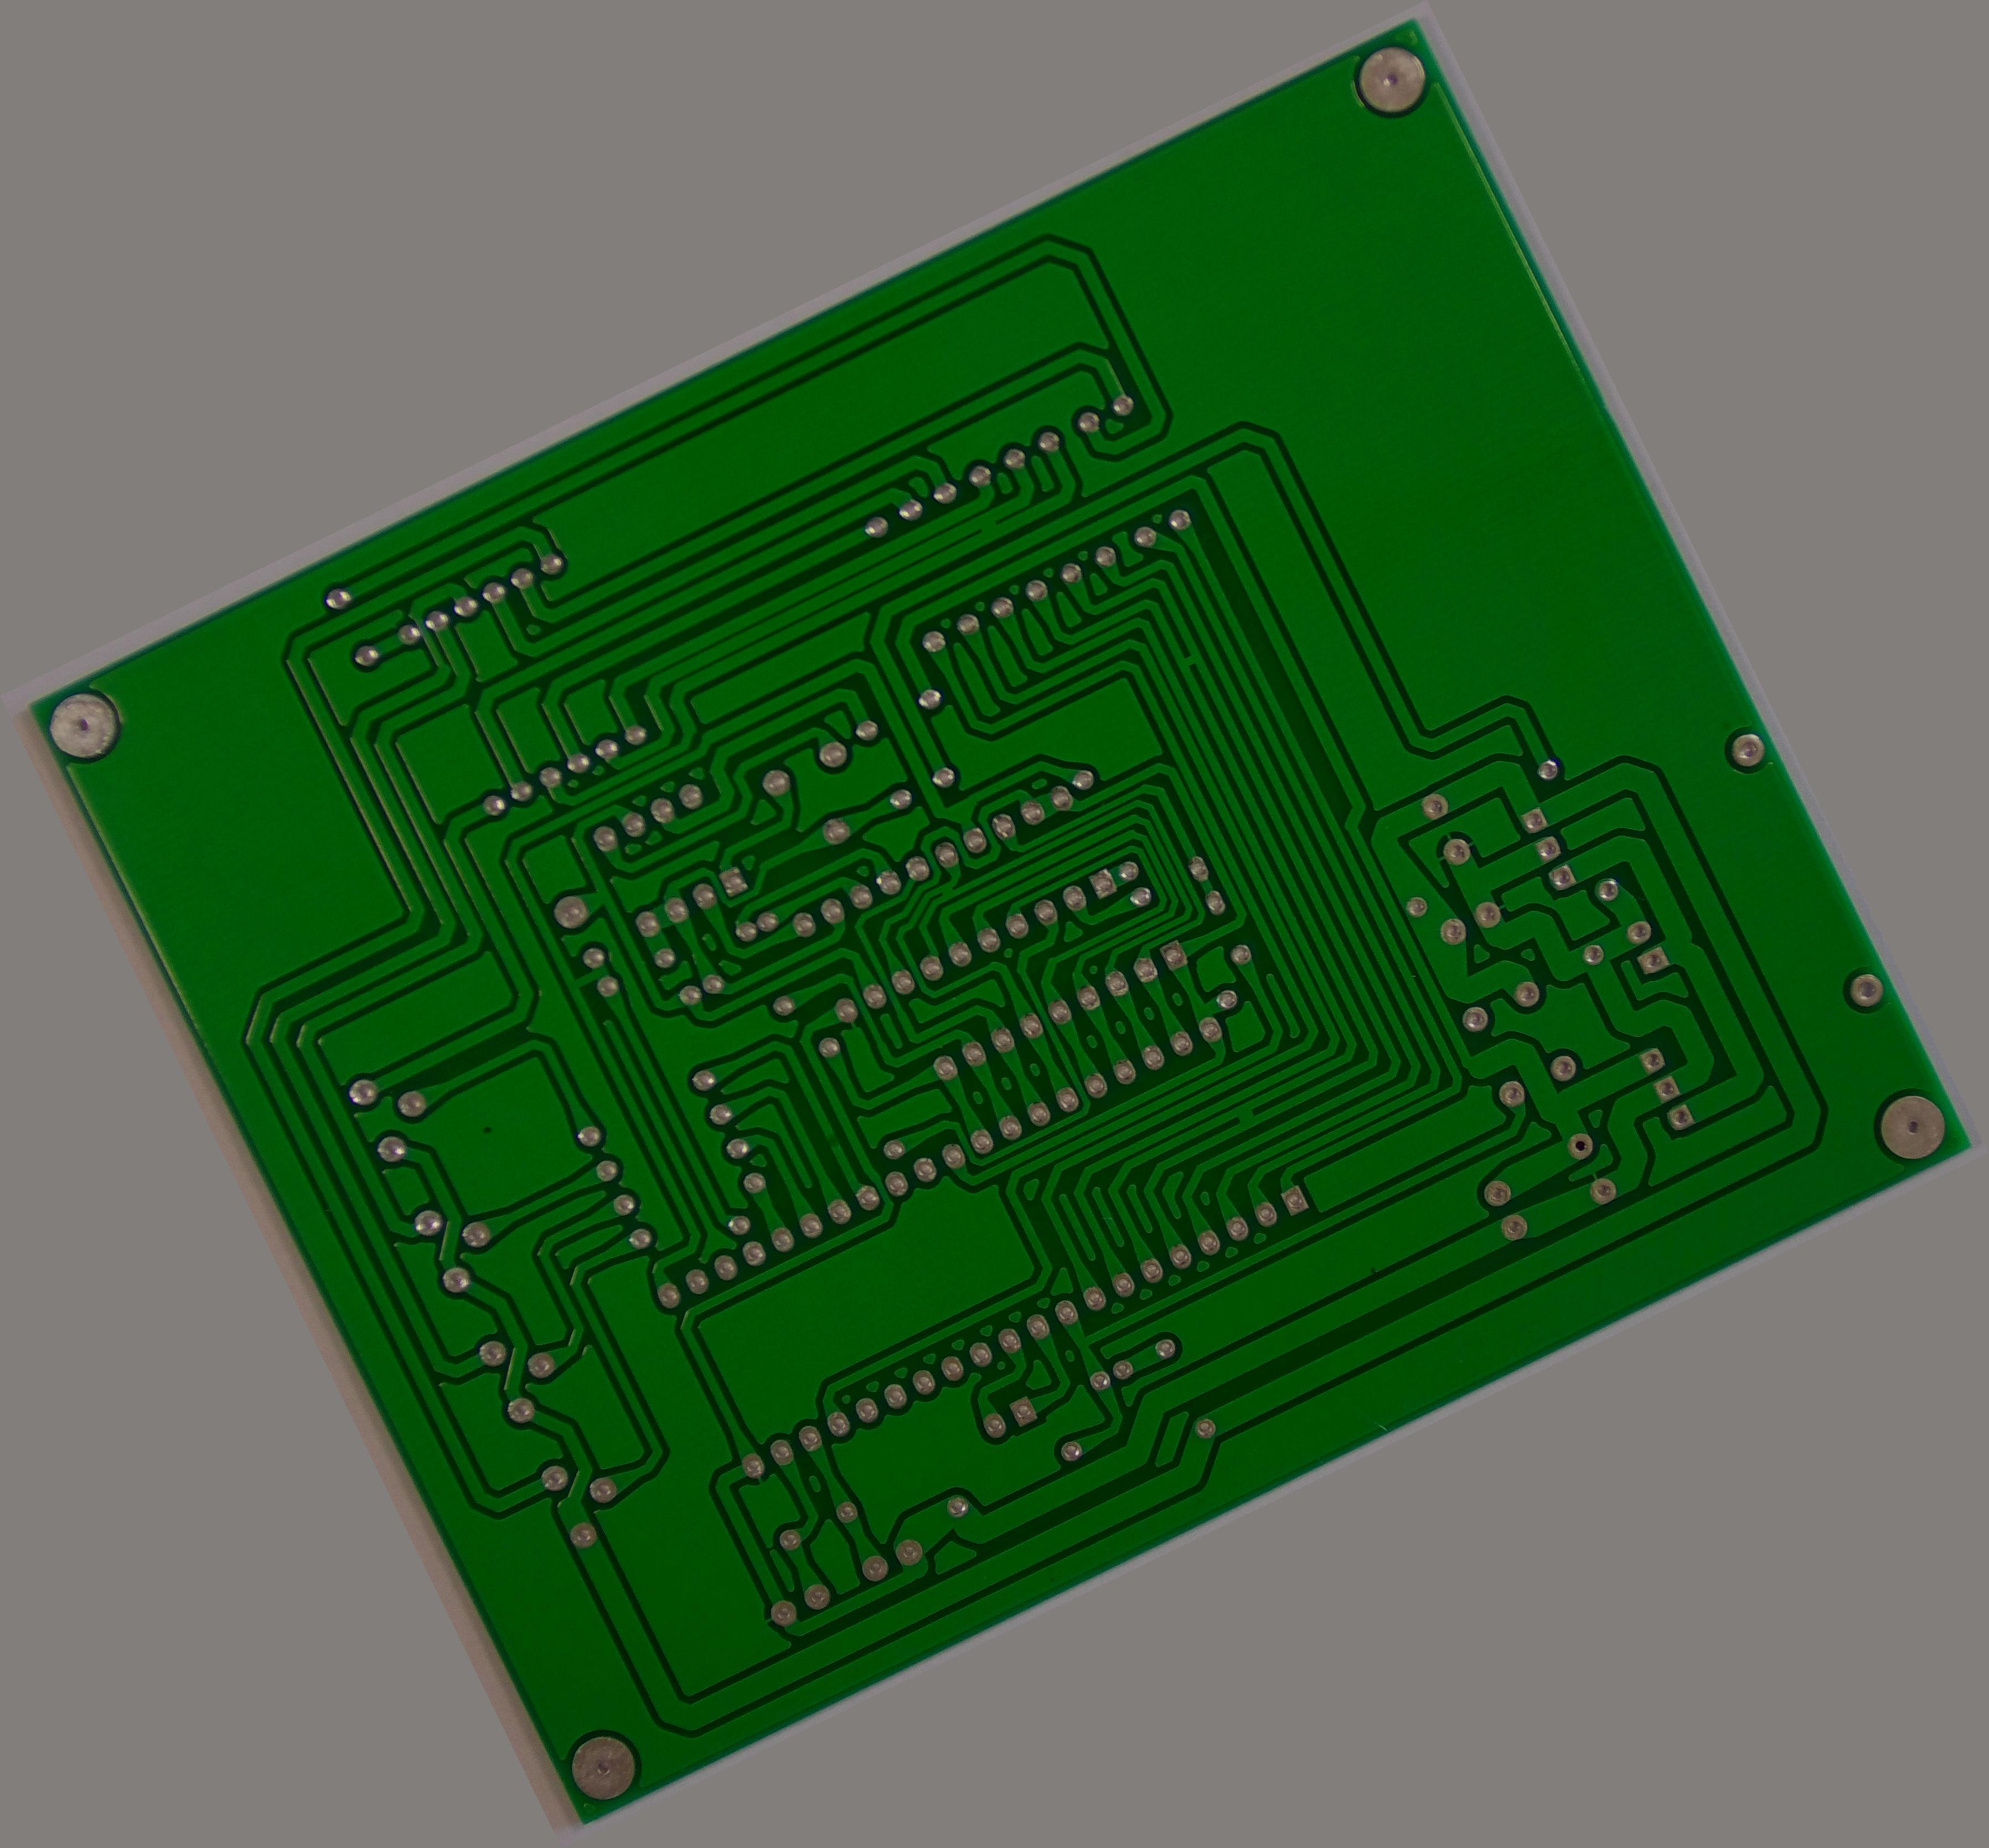short: (558, 950, 617, 1006), (962, 504, 1011, 551), (1223, 1091, 1268, 1134), (1171, 639, 1207, 677), (929, 875, 962, 905)
